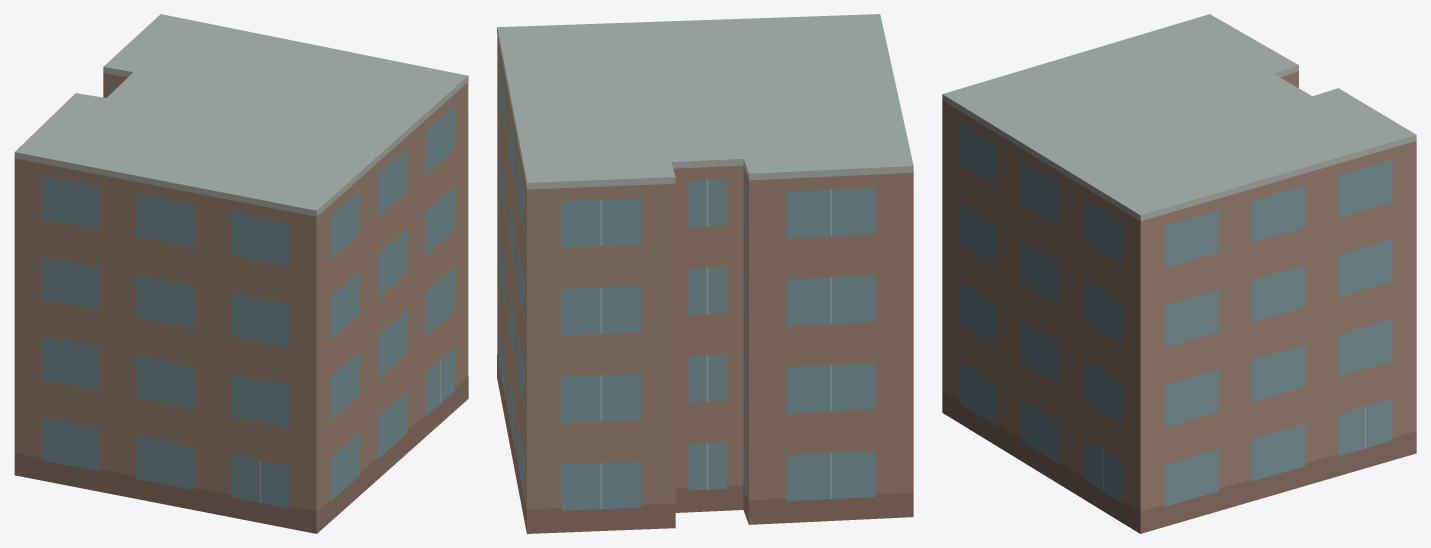
File: survey-upis-32991388.glb
3 views of the same model, side by side, from view 1: azimuth 30°, elevation 25°; view 2: azimuth 150°, elevation 25°; view 3: azimuth 270°, elevation 25° (orthographic). The views are drawn at different scales.
Visible parts, largest first — view 1: survey-upis-32991388.tmp; view 2: survey-upis-32991388.tmp; view 3: survey-upis-32991388.tmp.
Boxes of the visible parts, x1,y1,x2,y2 form: survey-upis-32991388.tmp: (14, 14, 468, 533); survey-upis-32991388.tmp: (497, 14, 913, 533); survey-upis-32991388.tmp: (942, 14, 1416, 533).
Bounding box in the file's own units: 17.5 × 12.9 × 17.42.
